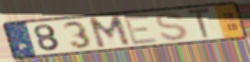3: (62, 20, 94, 50)
8: (33, 23, 61, 52)
E: (121, 13, 160, 46)
M: (87, 14, 133, 51)
S: (153, 11, 190, 42)
T: (186, 7, 213, 41)
